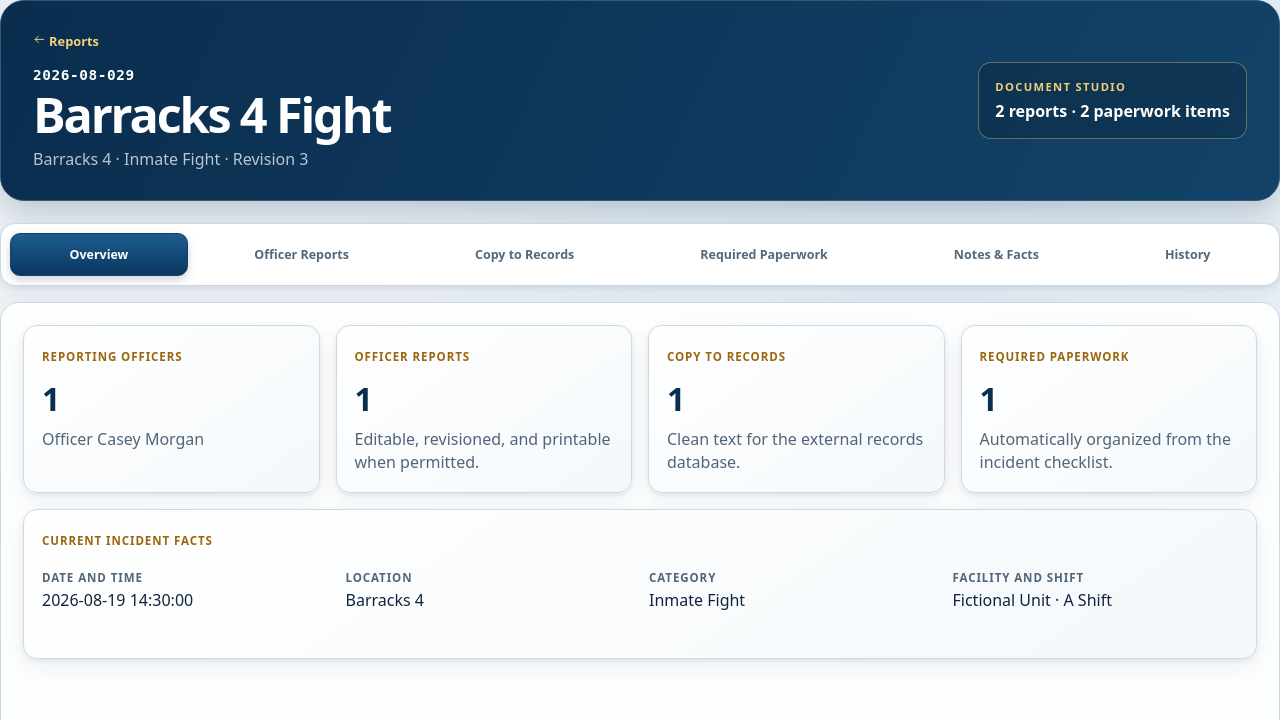
Test: Incident Document Studio › keeps supervisor summaries copy-only
expect the text "2026-08-029" is shown: met, box 33,67 -> 135,83
Click the tab "Copy to Records" at point(525, 254), box 416,233 -> 634,276
(page scrolled)
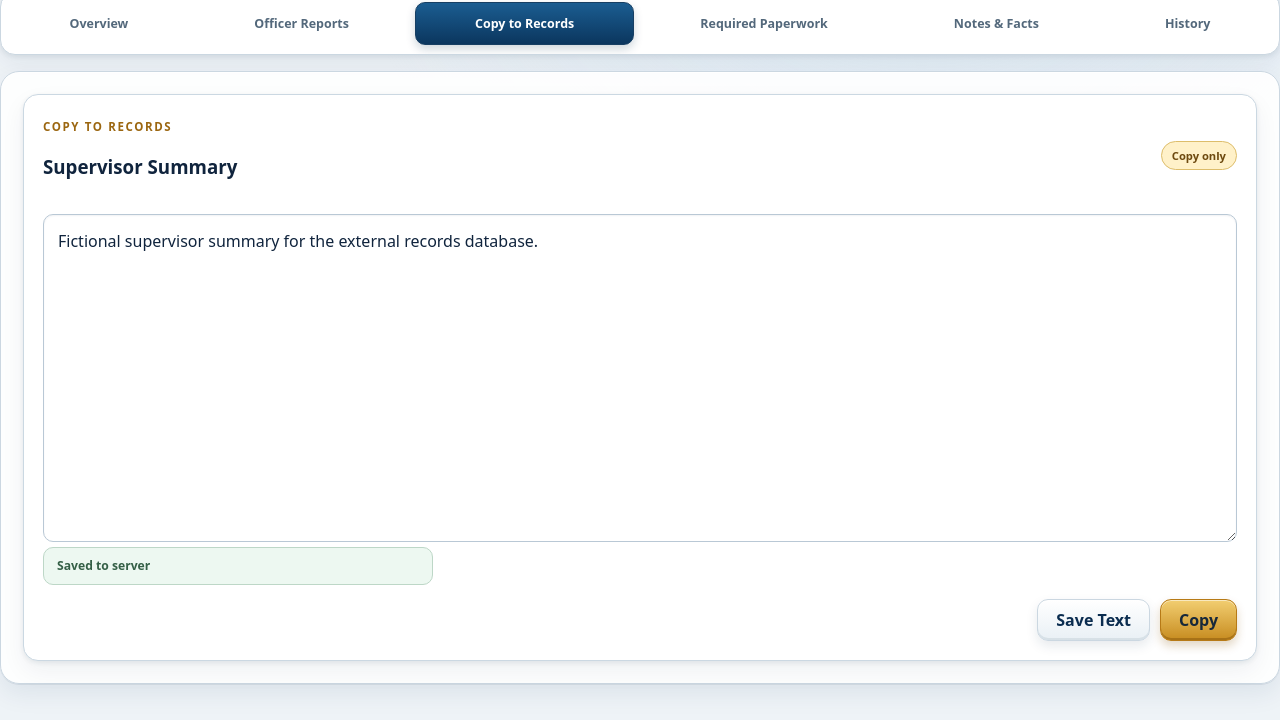
expect the text box "fictional supervisor summary" is shown: met, box 43,214 -> 1237,542
expect the button with aria-label "copy supervisor summary" is shown: met, box 1160,599 -> 1237,641
